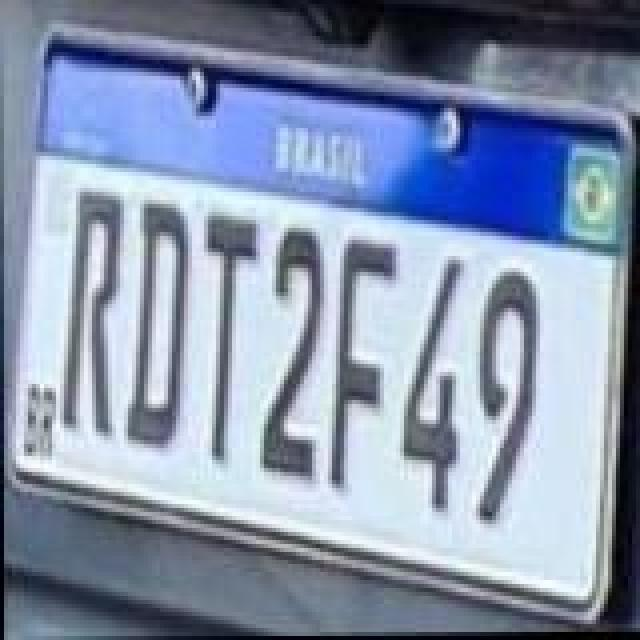2: (256, 226, 324, 478)
4: (398, 262, 462, 514)
9: (474, 266, 538, 522)
D: (120, 202, 188, 450)
F: (326, 238, 398, 490)
R: (56, 184, 124, 436)
T: (206, 212, 262, 464)
